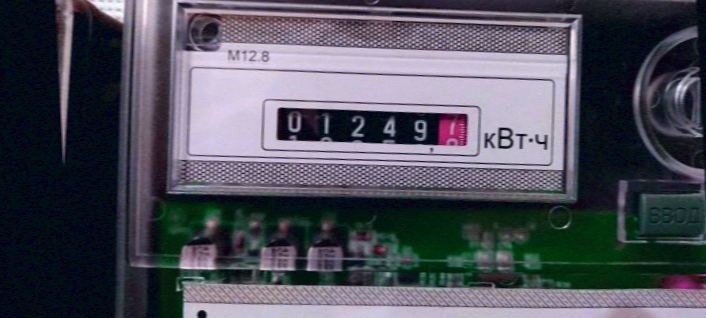0: (284, 106, 302, 133)
1: (316, 108, 331, 134)
2: (346, 112, 365, 139)
4: (379, 111, 397, 137)
7: (443, 109, 460, 136)
9: (409, 115, 427, 142)
screen: (256, 85, 484, 169)
